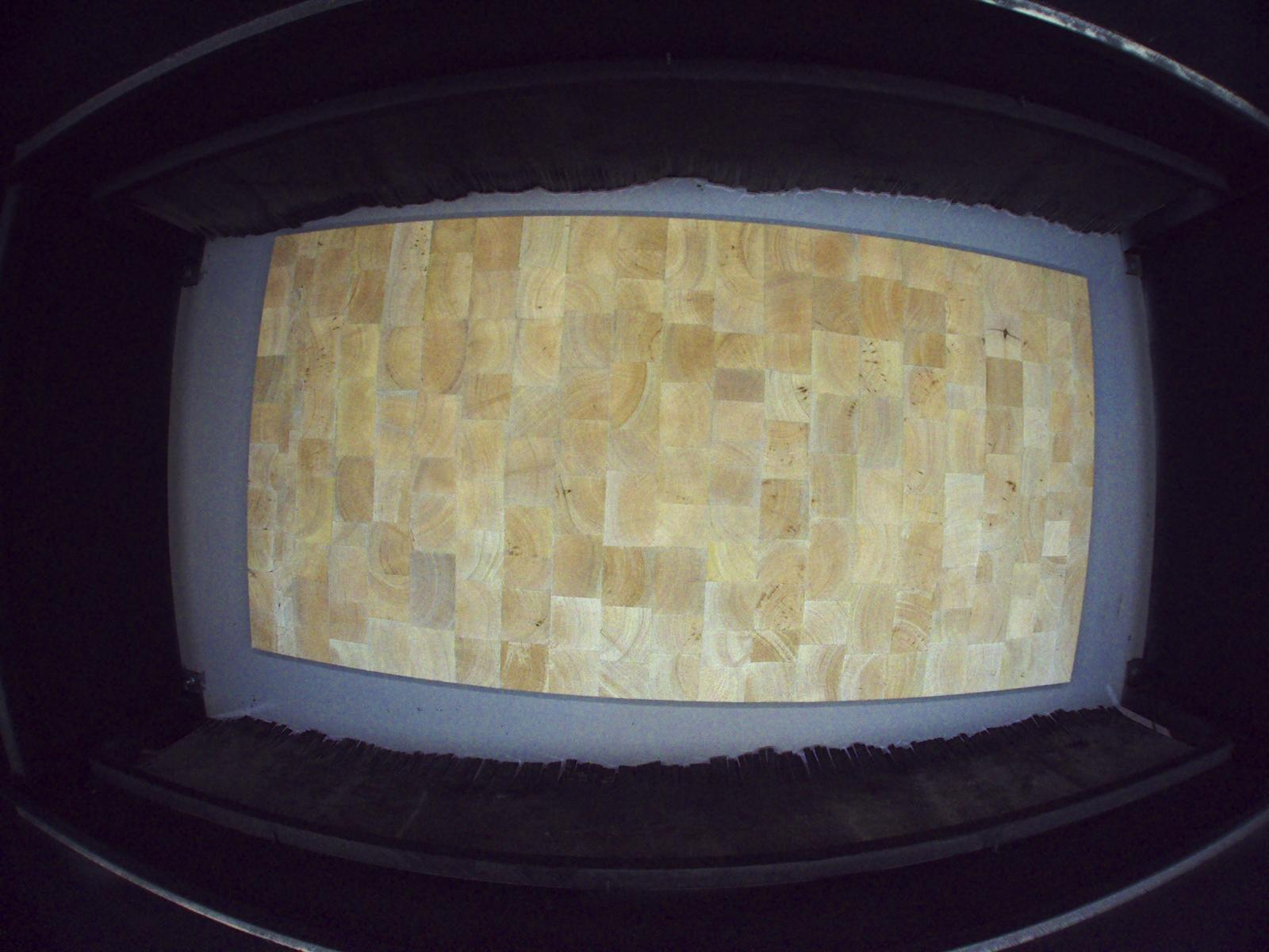sheck_ecuatoriano: (985, 325, 1021, 341)
